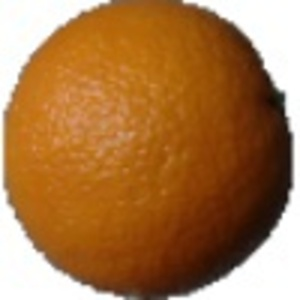laranja: (6, 3, 296, 298)
